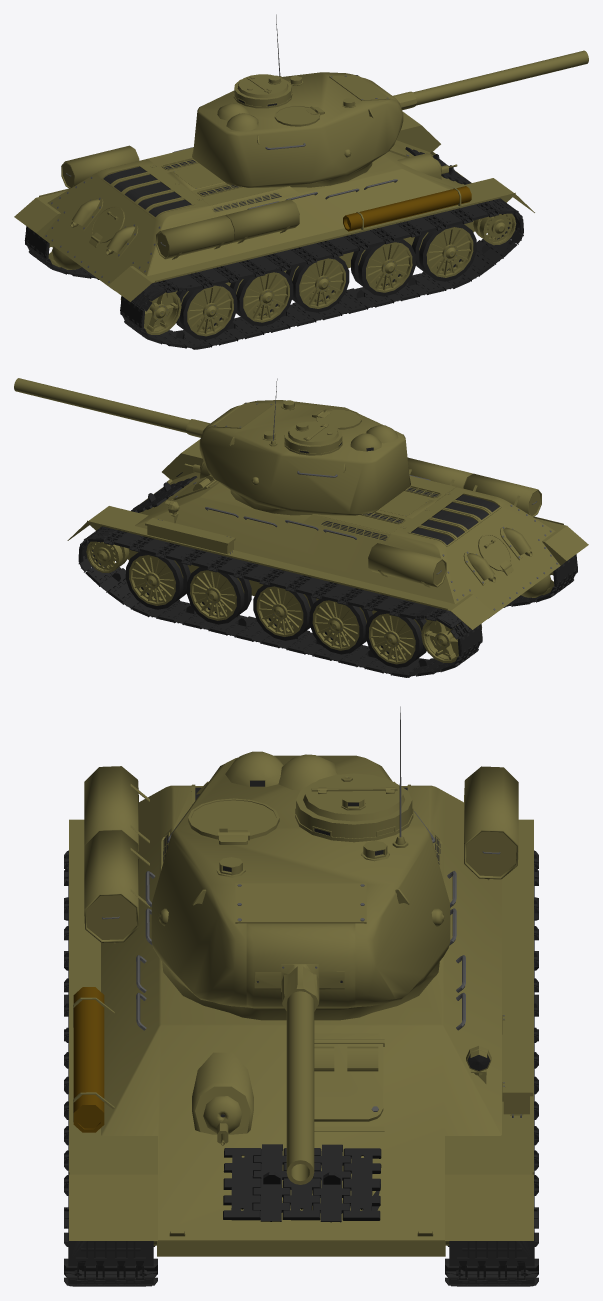
3 views of the same model, one above another, from view 1: azimuth 30°, elevation 25°; view 2: azimuth 150°, elevation 25°; view 3: azimuth 270°, elevation 25° (orthographic). The views are drawn at different scales.
Parts seen in each view (by area): view 1: T34 Body, T34 Head, R.Truck, L.Truck.002, T34 Gun, R.wheel.001, R.wheel.002, R.wheel.005, R.wheel.003, R.wheel.004, R.wheel.006, R.wheel (+1 smaller); view 2: T34 Body, T34 Head, L.Truck, L.Truck.002, T34 Gun, L.wheel.001, L.wheel.002, L.wheel.005, L.wheel.004, L.wheel.003, L.wheel.006, L.wheel (+2 smaller); view 3: T34 Body, T34 Head, L.Truck.002, T34 Gun, L.Truck, R.Truck.
Part boxes in pixels (left/top/right/bottom): T34 Body: left=14, top=112, right=534, bottom=301; T34 Head: left=192, top=14, right=403, bottom=187; R.Truck: left=120, top=198, right=523, bottom=349; L.Truck.002: left=61, top=145, right=471, bottom=259; T34 Gun: left=393, top=50, right=588, bottom=110; R.wheel.001: left=412, top=223, right=476, bottom=281; R.wheel.002: left=351, top=239, right=415, bottom=296; R.wheel.005: left=176, top=283, right=237, bottom=339; R.wheel.003: left=286, top=257, right=349, bottom=312; R.wheel.004: left=230, top=270, right=293, bottom=326; R.wheel.006: left=120, top=292, right=181, bottom=334; R.wheel: left=473, top=213, right=516, bottom=245; T34 Body: left=67, top=439, right=588, bottom=629; T34 Head: left=199, top=378, right=410, bottom=515; L.Truck: left=78, top=526, right=482, bottom=677; L.Truck.002: left=205, top=457, right=541, bottom=587; T34 Gun: left=14, top=378, right=210, bottom=437; L.wheel.001: left=125, top=551, right=190, bottom=609; L.wheel.002: left=186, top=567, right=251, bottom=624; L.wheel.005: left=365, top=611, right=426, bottom=668; L.wheel.004: left=309, top=598, right=372, bottom=654; L.wheel.003: left=253, top=585, right=316, bottom=640; L.wheel.006: left=421, top=620, right=481, bottom=662; L.wheel: left=86, top=541, right=129, bottom=572; T34 Body: left=69, top=784, right=533, bottom=1256; T34 Head: left=151, top=706, right=450, bottom=1020; L.Truck.002: left=73, top=766, right=518, bottom=1132; T34 Gun: left=254, top=964, right=344, bottom=1184; L.Truck: left=445, top=850, right=538, bottom=1286; R.Truck: left=64, top=850, right=157, bottom=1286.
Size of the model in its own units: 890 by 393 by 357.
